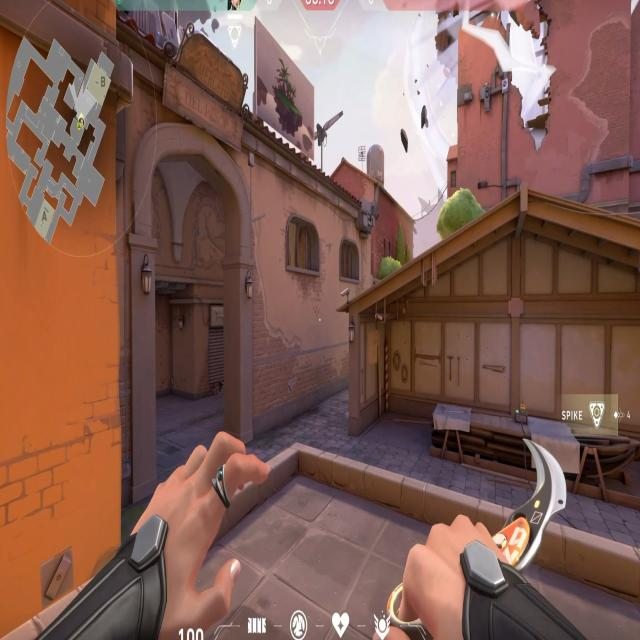B_Garage_Left: (343, 305, 452, 462)
Throwables: (280, 205, 324, 287), (336, 230, 363, 289)
